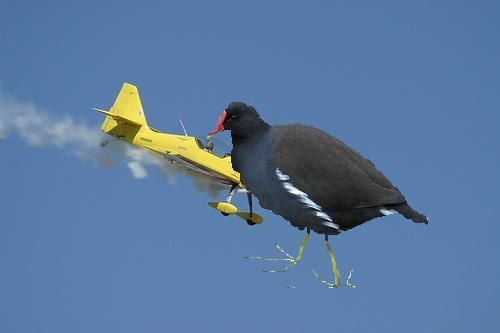tampered: (208, 103, 428, 288)
